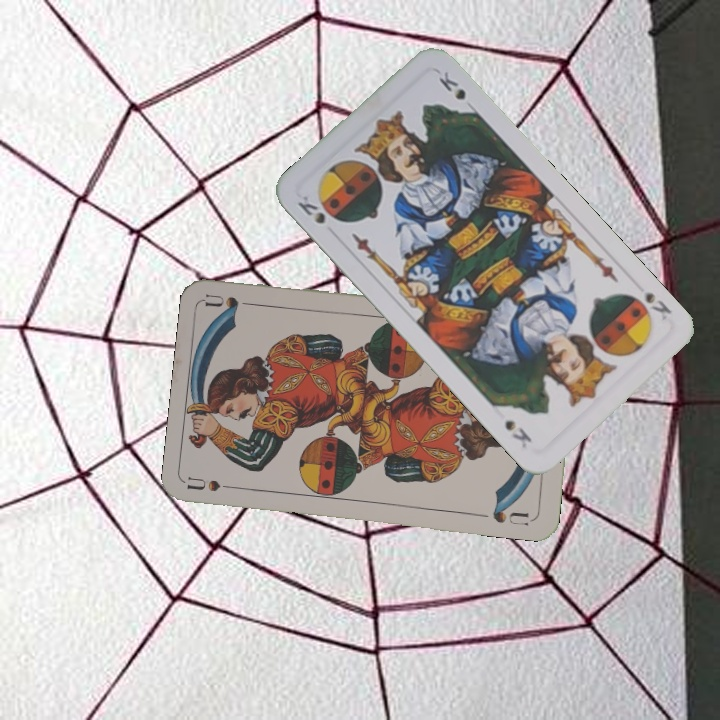SK: (293, 191, 328, 227), (641, 288, 674, 323)
SU: (185, 473, 245, 494)
